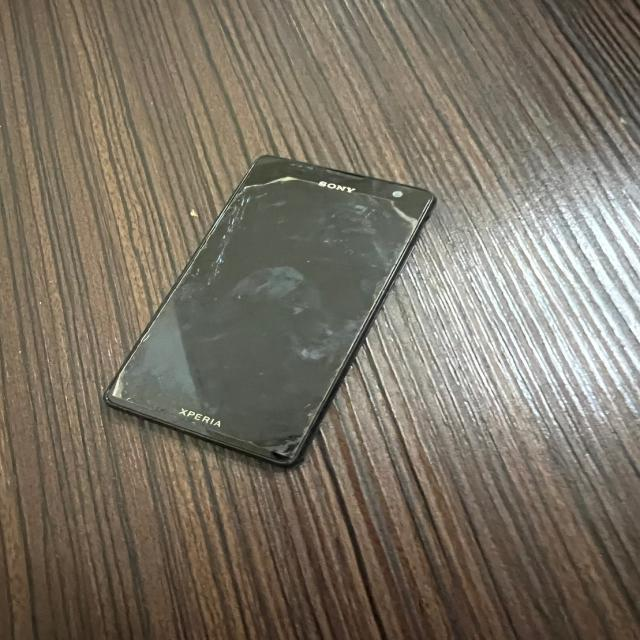Smartphone: (103, 155, 435, 466)
